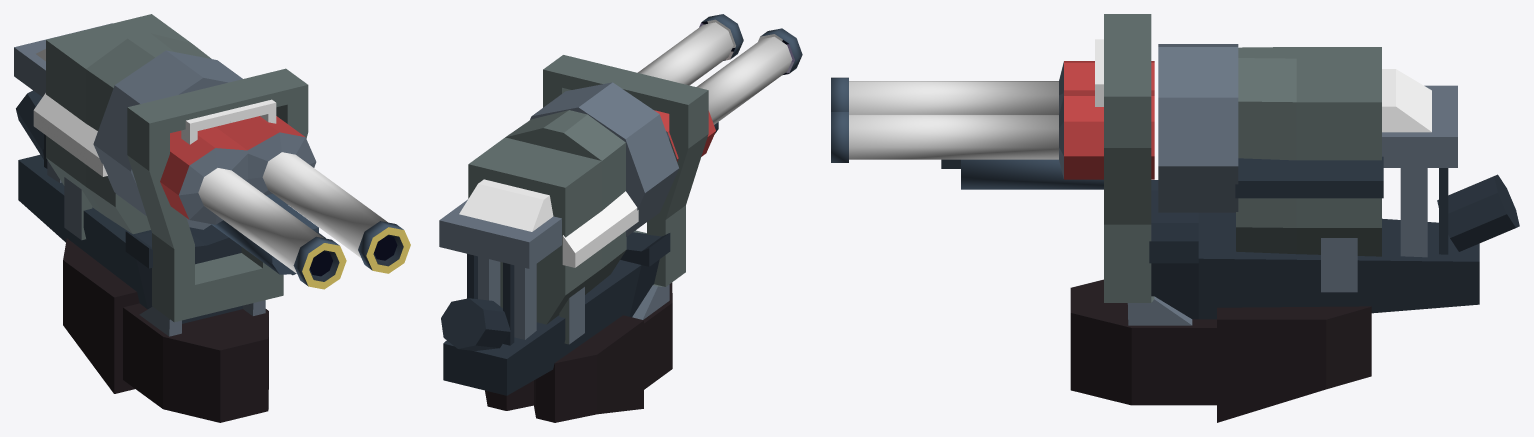
The model's file is Pickup_Shotgun.fbx.
The picture shows the model from 3 angles, left to right: view 1: azimuth 30°, elevation 25°; view 2: azimuth 150°, elevation 25°; view 3: azimuth 270°, elevation 25°; orthographic projection. The views are drawn at different scales.
Visible parts, largest first — view 1: Turret_Main, Turret_Shotgun; view 2: Turret_Main, Turret_Shotgun; view 3: Turret_Main, Turret_Shotgun.
Boxes of the visible parts, x1,y1,x2,y2 form: Turret_Main: (14, 14, 308, 422); Turret_Shotgun: (160, 99, 410, 289); Turret_Main: (439, 55, 708, 422); Turret_Shotgun: (637, 14, 802, 161); Turret_Main: (1070, 14, 1519, 422); Turret_Shotgun: (831, 39, 1154, 189).
Bounding box in the file's own units: 369 × 714 × 1297.
